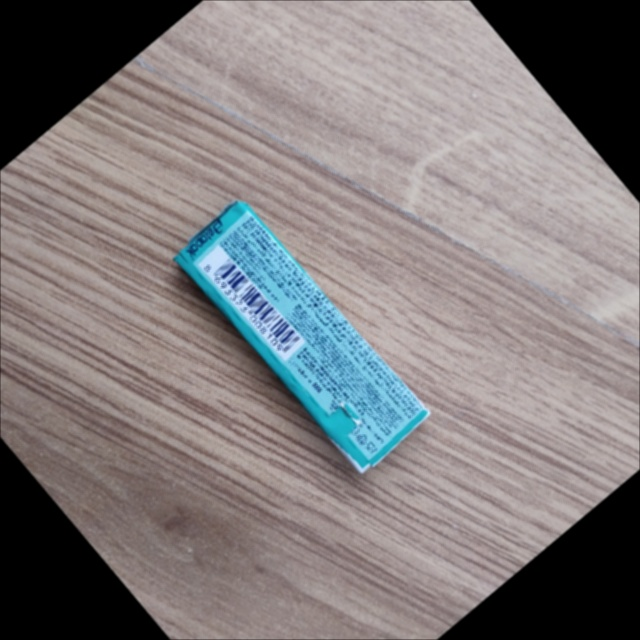nazar_naneli_sakiz: (177, 201, 428, 469)
